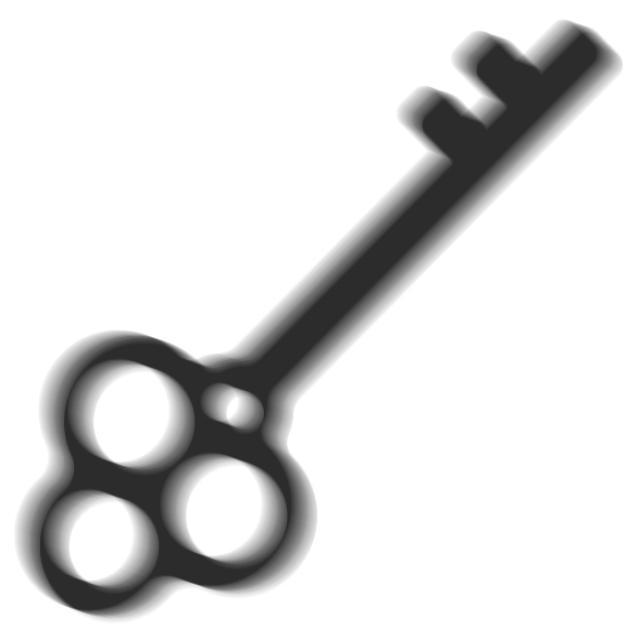key: (8, 15, 635, 631)
